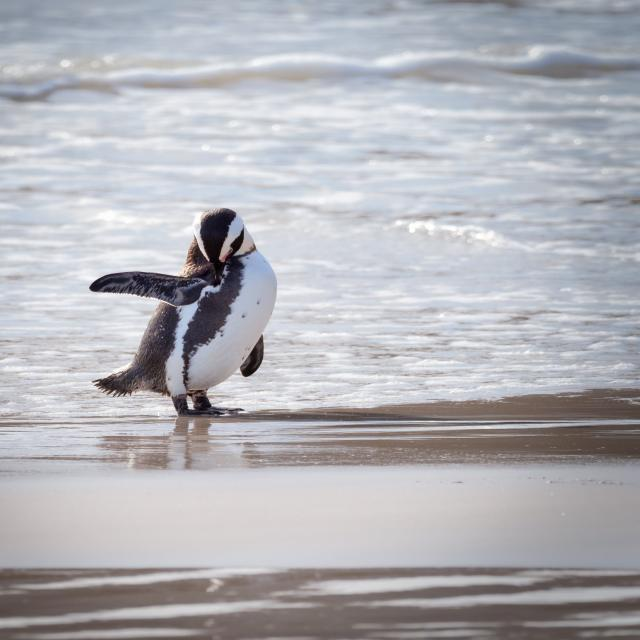Penguins: (106, 195, 290, 426)
